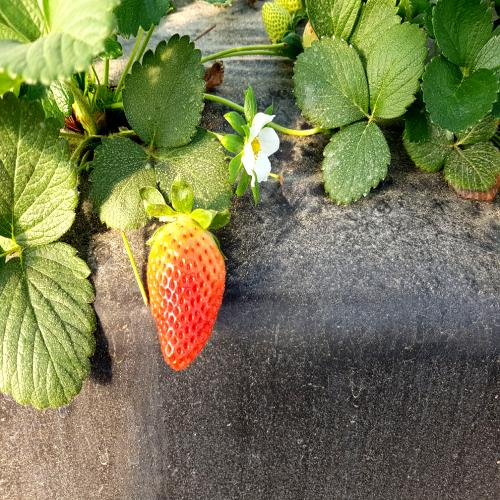ripe: (143, 218, 226, 366)
